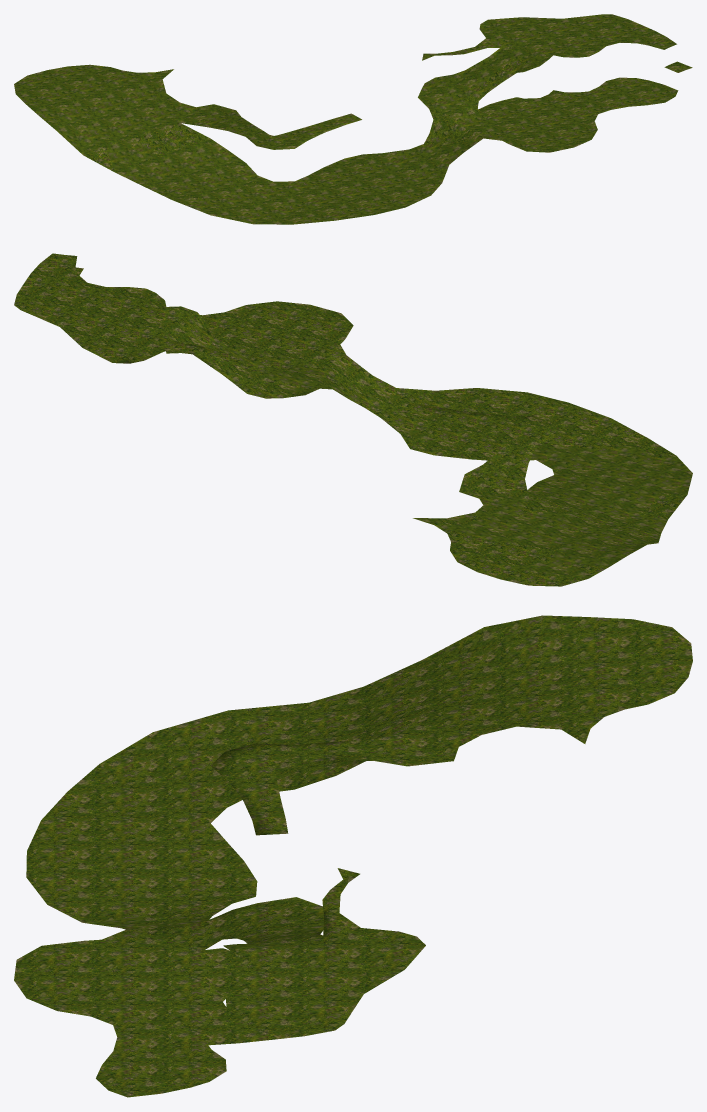
File: OVERHILL_A_01_BLOCK_PUZZLE_GROUND.fbx
3 views of the same model, one above another, from view 1: azimuth 30°, elevation 25°; view 2: azimuth 150°, elevation 25°; view 3: azimuth 270°, elevation 25° (orthographic). The views are drawn at different scales.
Visible parts, largest first — view 1: OVERHILL_A_01_BLOCK_PUZZLE_GROUND; view 2: OVERHILL_A_01_BLOCK_PUZZLE_GROUND; view 3: OVERHILL_A_01_BLOCK_PUZZLE_GROUND.
Part boxes in pixels (left/top/right/bottom): OVERHILL_A_01_BLOCK_PUZZLE_GROUND: left=14, top=14, right=692, bottom=224; OVERHILL_A_01_BLOCK_PUZZLE_GROUND: left=14, top=253, right=692, bottom=586; OVERHILL_A_01_BLOCK_PUZZLE_GROUND: left=14, top=615, right=692, bottom=1097.
Bounding box in the file's own units: 325917 × 33610 × 201264.
Materials: 1 (1 with a texture image).
